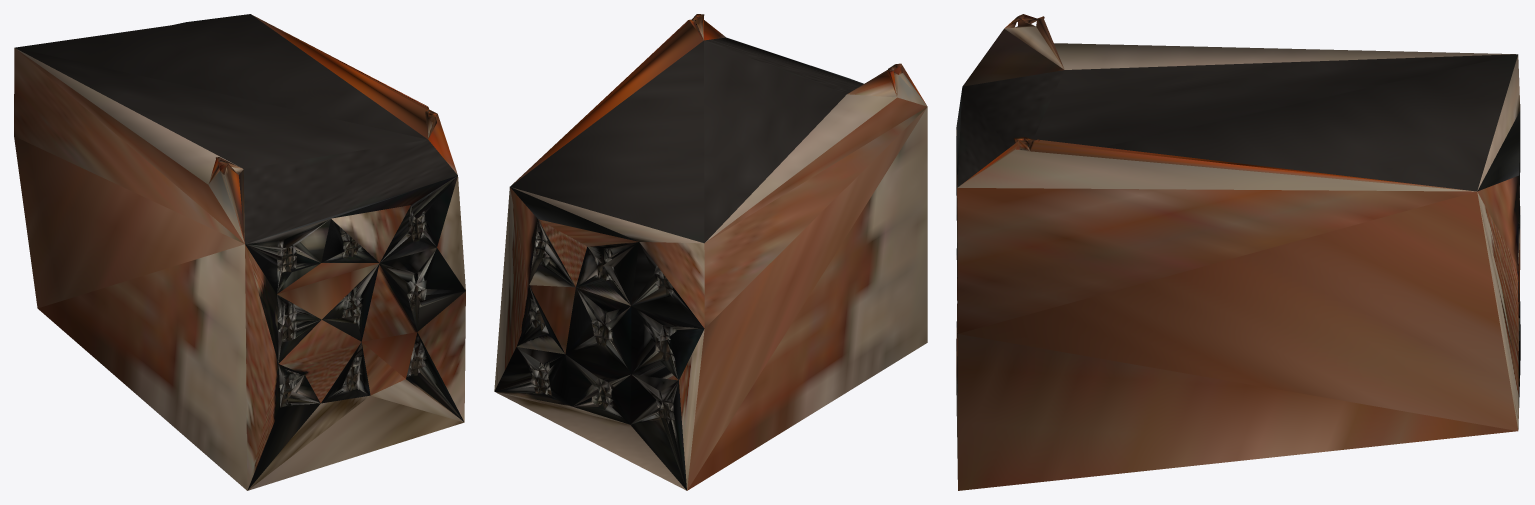
Rendered from MixedUseBrick_LOD4.fbx.
3 views of the same model, side by side, from view 1: azimuth 30°, elevation 25°; view 2: azimuth 150°, elevation 25°; view 3: azimuth 270°, elevation 25° (orthographic). The views are drawn at different scales.
Parts seen in each view (by area): view 1: MixedUseBrick_Level4; view 2: MixedUseBrick_Level4; view 3: MixedUseBrick_Level4.
Part boxes in pixels (left/top/right/bottom): MixedUseBrick_Level4: left=14, top=14, right=465, bottom=490; MixedUseBrick_Level4: left=494, top=14, right=927, bottom=490; MixedUseBrick_Level4: left=956, top=14, right=1520, bottom=490.
Size of the model in its own units: 52.26 by 69.05 by 95.66.
1 material, 1 textured.
